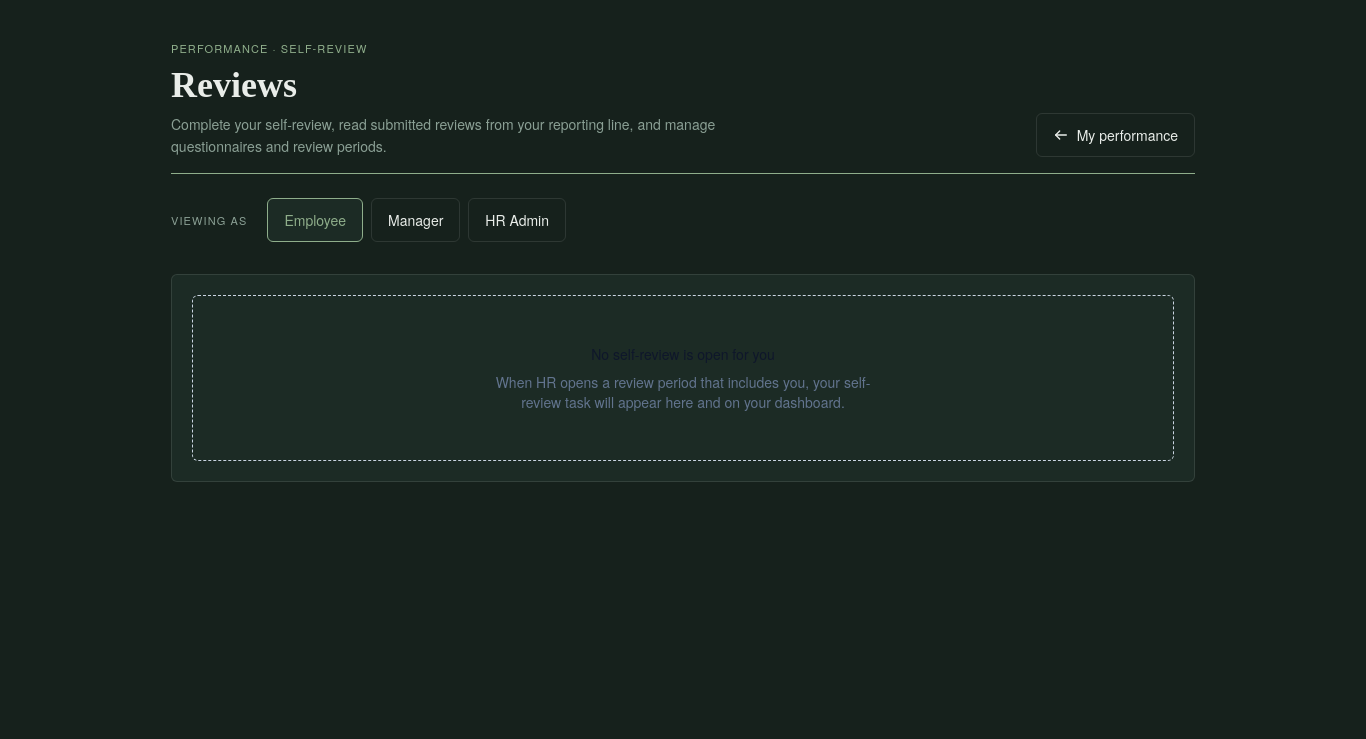
Test: Review periods › [AC-066] outstanding people are not marked overdue before the deadline
Click the tab "HR Admin": x=517, y=220 x1=468 y1=198 x2=566 y2=242
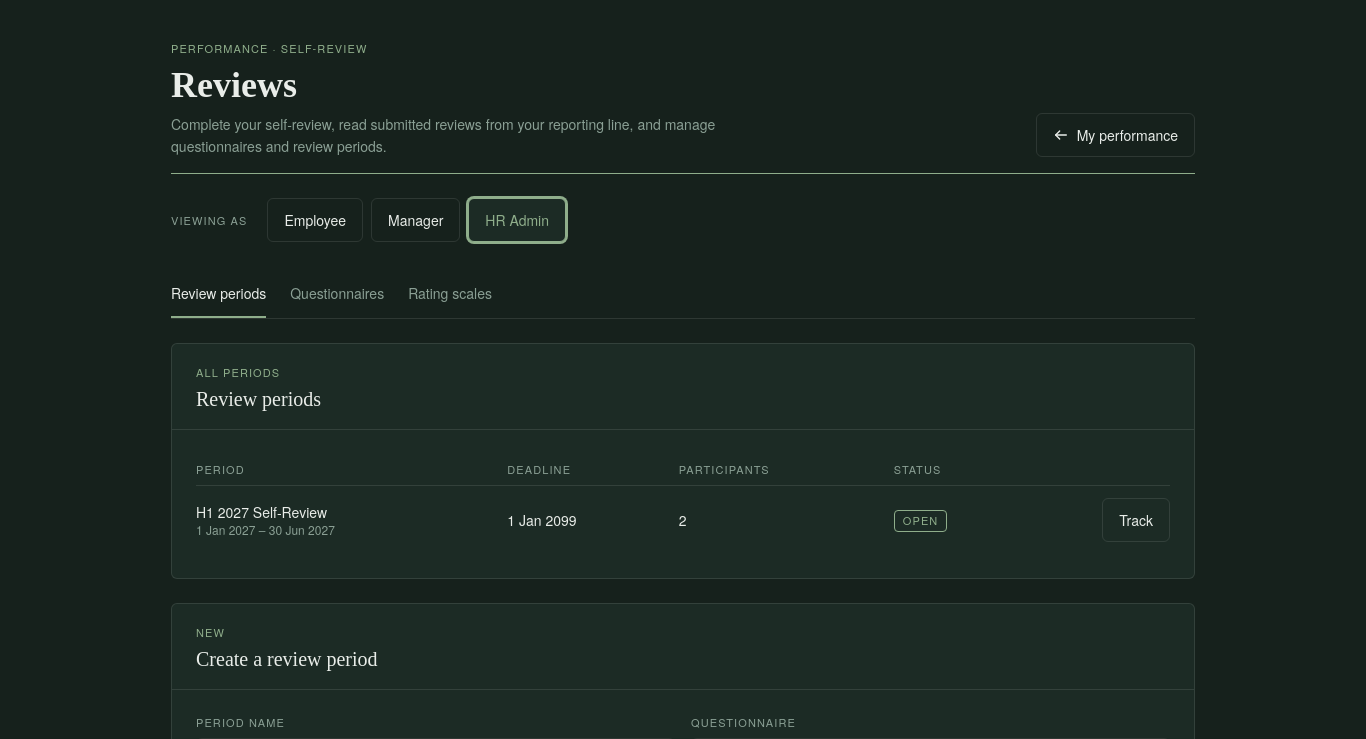
Click the button "Track": x=1136, y=520 x1=1102 y1=498 x2=1170 y2=542
(page scrolled)
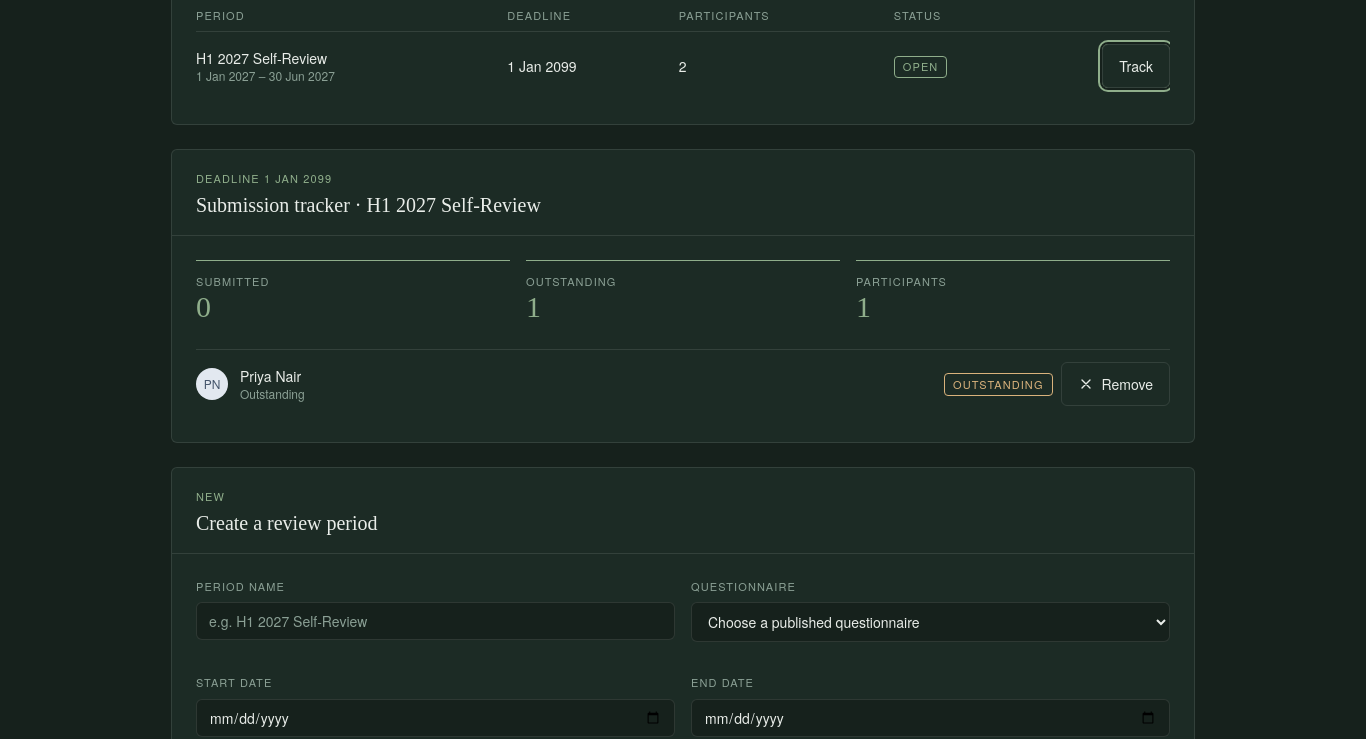
Check: the 2nd text "Outstanding" is shown, box x1=944 y1=373 x2=1053 y2=396
